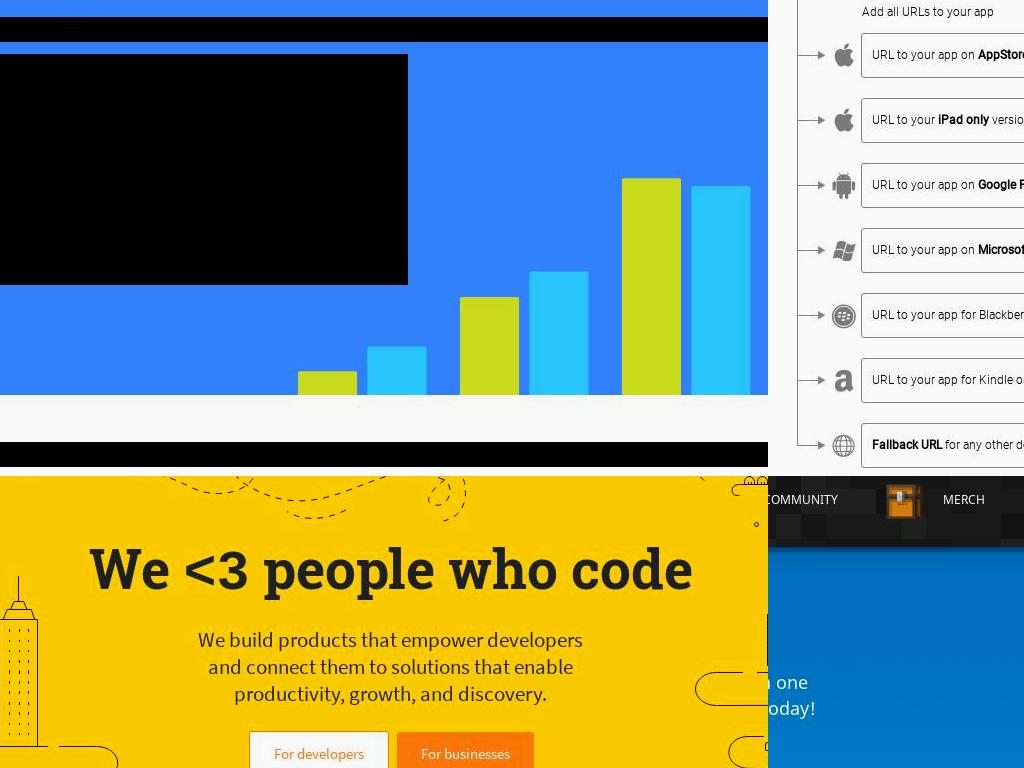button: (857, 476, 998, 544), (768, 476, 858, 544), (248, 731, 389, 768), (396, 732, 534, 768)
field: (862, 34, 1024, 77), (862, 99, 1024, 142), (862, 164, 1024, 207), (862, 229, 1024, 272), (862, 294, 1024, 337), (862, 359, 1024, 402), (862, 424, 1024, 467)
heading: (249, 531, 693, 604), (0, 17, 768, 42), (0, 442, 768, 467), (89, 531, 184, 604), (183, 543, 251, 606)
image: (768, 0, 798, 84), (884, 476, 936, 520), (797, 33, 827, 98), (797, 98, 827, 163), (797, 163, 827, 228), (797, 228, 827, 293), (797, 293, 827, 358), (797, 358, 827, 423), (797, 423, 827, 476), (830, 42, 858, 70), (830, 107, 858, 135), (830, 172, 858, 200), (830, 237, 858, 265), (830, 302, 858, 330), (830, 367, 858, 395), (830, 432, 858, 460)
text: (0, 54, 408, 285), (180, 626, 602, 707), (797, 2, 1024, 23), (872, 308, 1024, 322), (872, 373, 1024, 387), (872, 48, 978, 62), (872, 178, 978, 192), (872, 243, 978, 257), (768, 490, 838, 508), (942, 438, 1024, 452), (872, 438, 942, 452), (872, 113, 938, 127), (942, 490, 985, 508), (938, 113, 989, 127), (978, 48, 1024, 62), (978, 178, 1024, 192), (978, 243, 1024, 257), (989, 113, 1024, 127)
